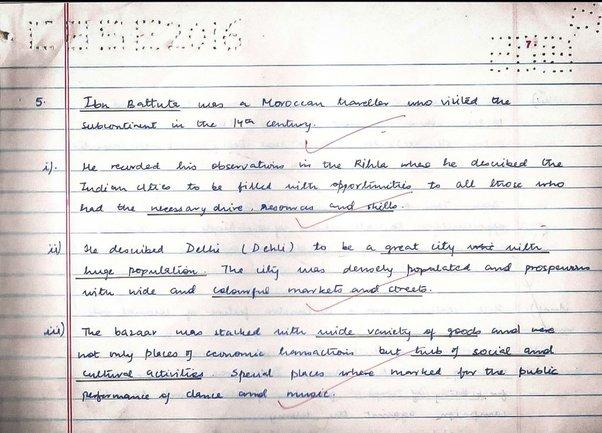text: (76, 343, 556, 365), (80, 363, 560, 385), (80, 323, 556, 345), (82, 261, 592, 281), (78, 178, 567, 196), (80, 155, 565, 173), (81, 240, 551, 257), (81, 93, 513, 111), (81, 283, 432, 301), (79, 200, 399, 217), (81, 387, 336, 406), (81, 116, 318, 134), (41, 320, 67, 341), (46, 239, 63, 256), (42, 160, 58, 176), (35, 95, 47, 110)
